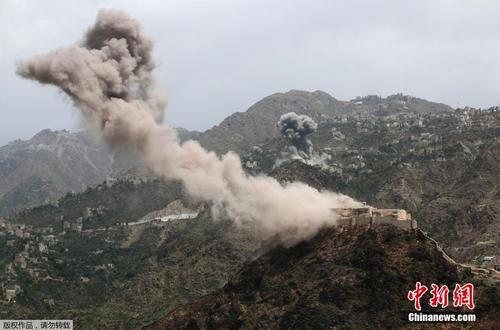smoke: (30, 17, 335, 234)
